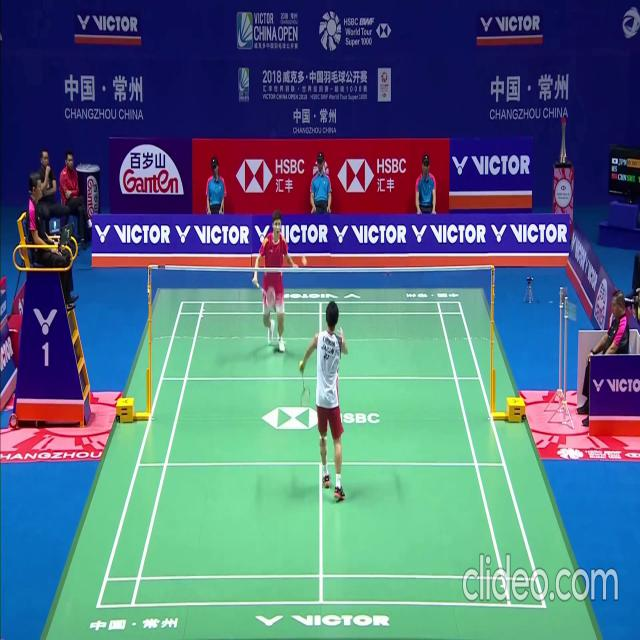Shuttlecock: (302, 254, 306, 262)
